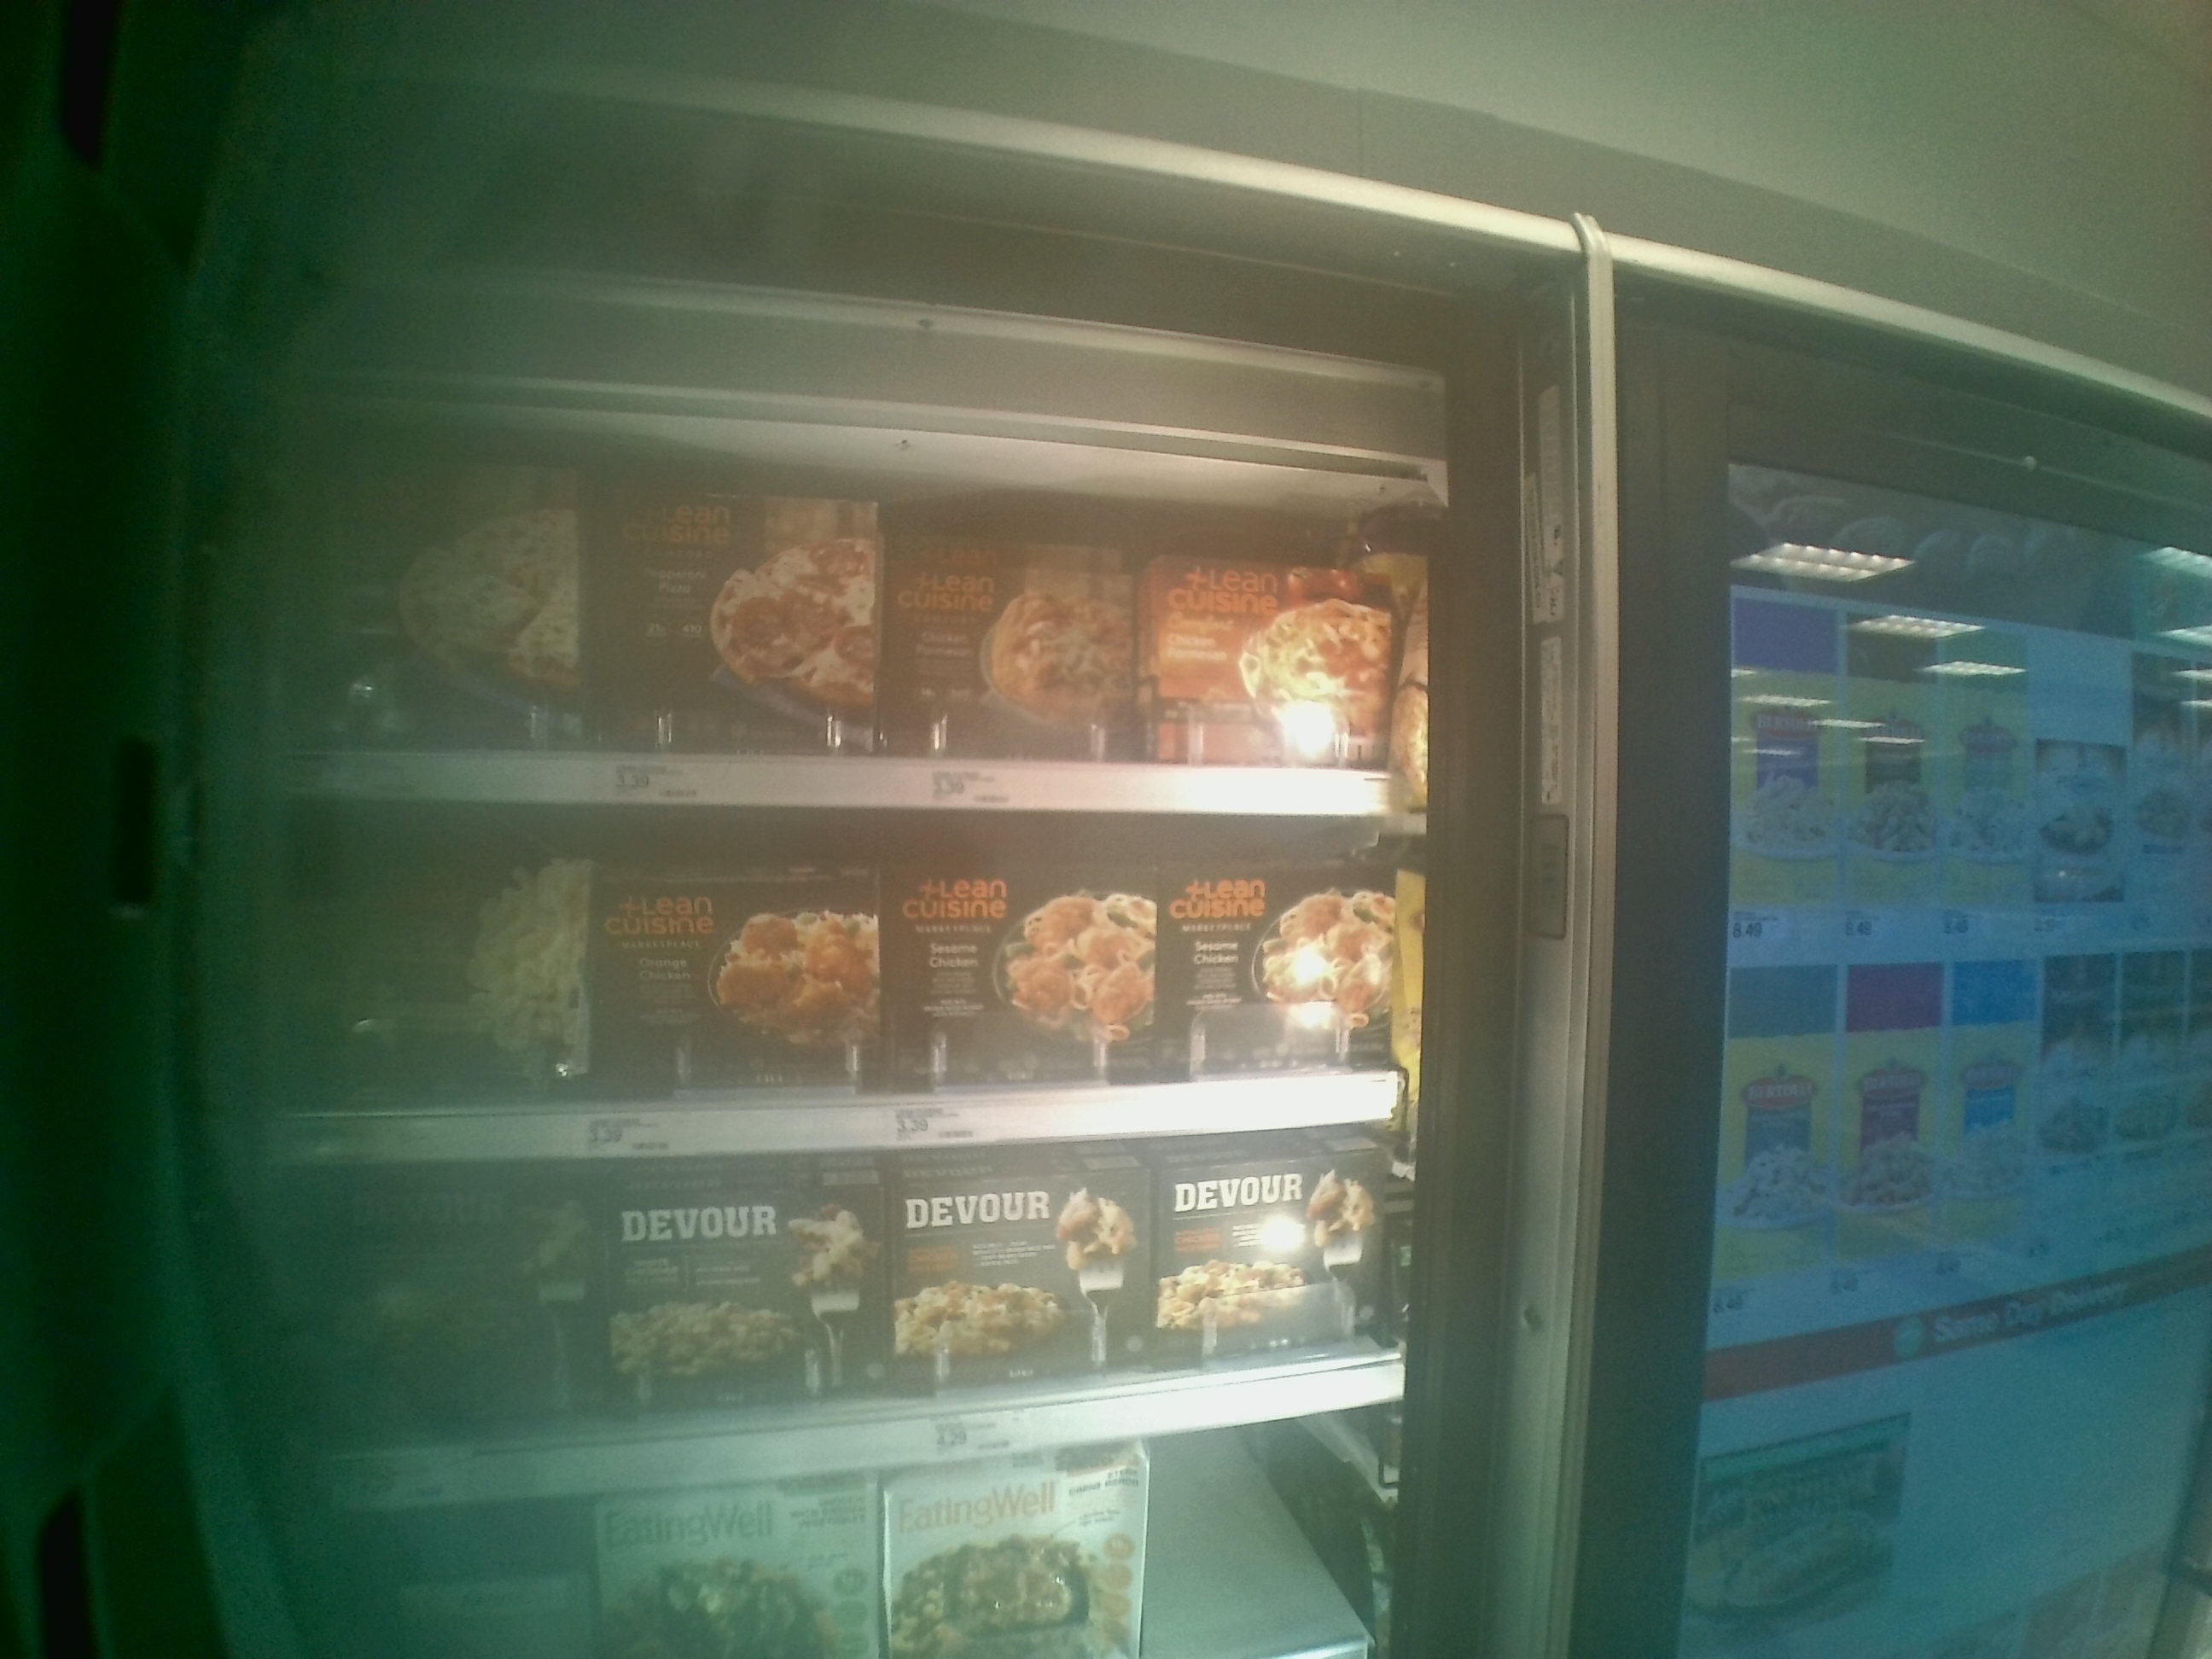shelf: (280, 364, 1404, 817), (279, 1119, 1413, 1504), (279, 802, 1435, 1168)
